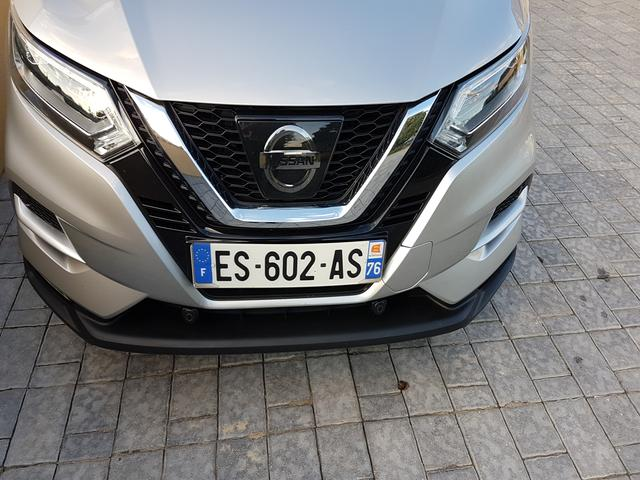Quashquai: (169, 212, 407, 315)
